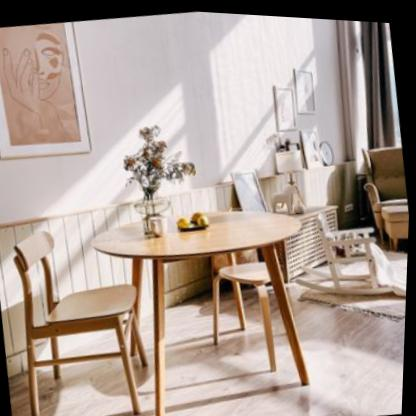Dining Table: (0, 178, 339, 416)
Wooden floor: (301, 303, 408, 416)
